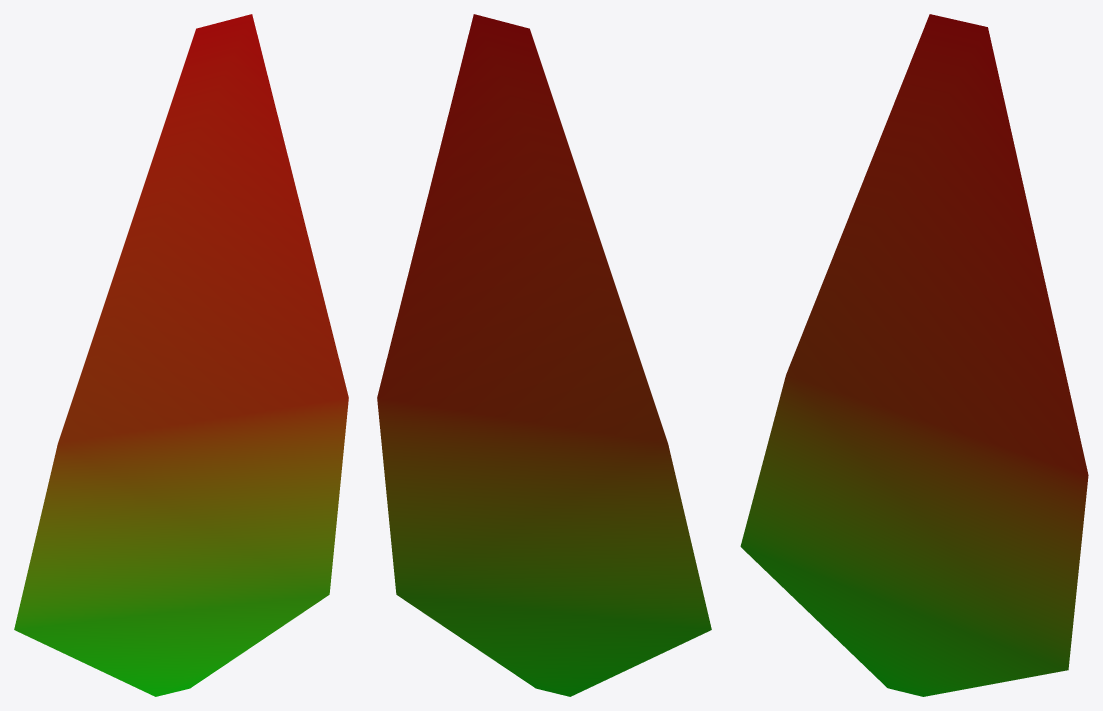
File: Sowthistle_LOD4_Var1_tgdqciyr.fbx
The picture shows the model from 3 angles, left to right: view 1: azimuth 30°, elevation 25°; view 2: azimuth 150°, elevation 25°; view 3: azimuth 330°, elevation 25°; orthographic projection. The views are drawn at different scales.
Visible parts, largest first — view 1: _6f0f_Var1_LOD4; view 2: _6f0f_Var1_LOD4; view 3: _6f0f_Var1_LOD4.
Boxes of the visible parts, <box> form: _6f0f_Var1_LOD4: <box>14,14,348,696</box>; _6f0f_Var1_LOD4: <box>377,14,711,696</box>; _6f0f_Var1_LOD4: <box>740,14,1088,696</box>.
Bounding box in the file's own units: 78.83 × 148 × 1.32e-05.
